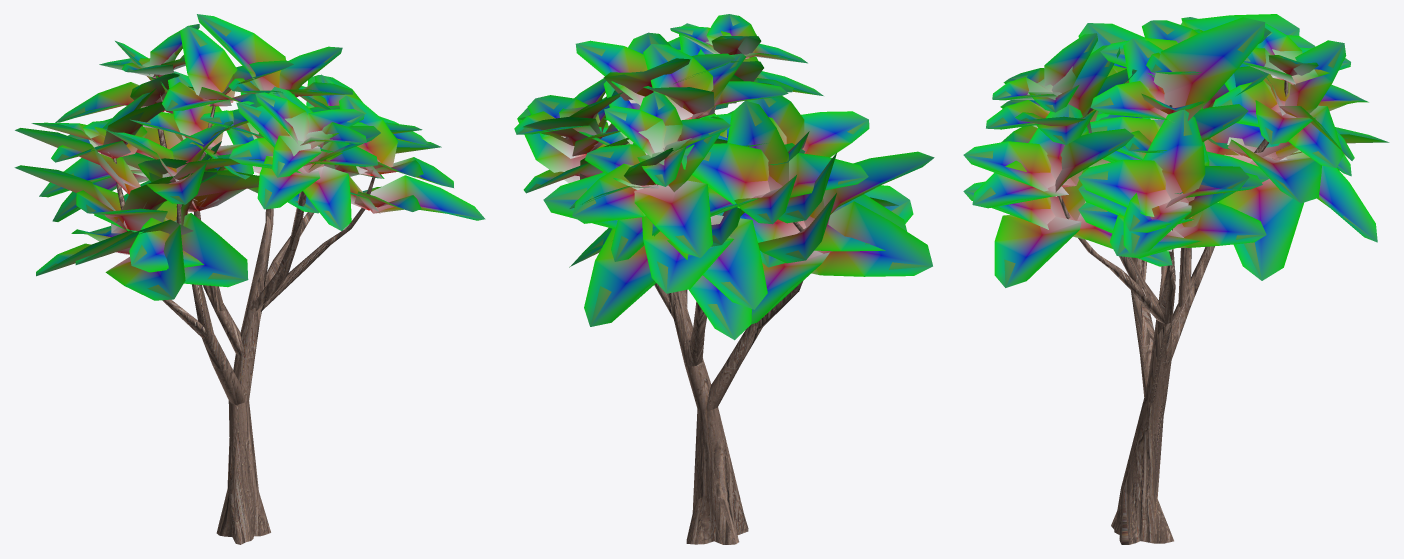
Rendered from AfricaTree_01.dae.
3 renders of one model, left to right at view 1: azimuth 30°, elevation 25°; view 2: azimuth 150°, elevation 25°; view 3: azimuth 270°, elevation 25°, orthographic. The views are drawn at different scales.
Parts seen in each view (by area): view 1: AfricaTree300, AfricaTree200, AfricaTree100; view 2: AfricaTree300, AfricaTree100, AfricaTree200; view 3: AfricaTree300, AfricaTree100, AfricaTree200.
Boxes of the visible parts, x1,y1,x2,y2 form: AfricaTree300: [21, 14, 485, 544]; AfricaTree200: [14, 24, 439, 541]; AfricaTree100: [37, 14, 483, 541]; AfricaTree300: [514, 14, 934, 544]; AfricaTree100: [517, 14, 931, 528]; AfricaTree200: [518, 31, 914, 544]; AfricaTree300: [963, 14, 1387, 544]; AfricaTree100: [964, 17, 1374, 540]; AfricaTree200: [974, 20, 1389, 543].
Size of what is drawn, in the model's own units: 14.65 by 12.57 by 16.87.
